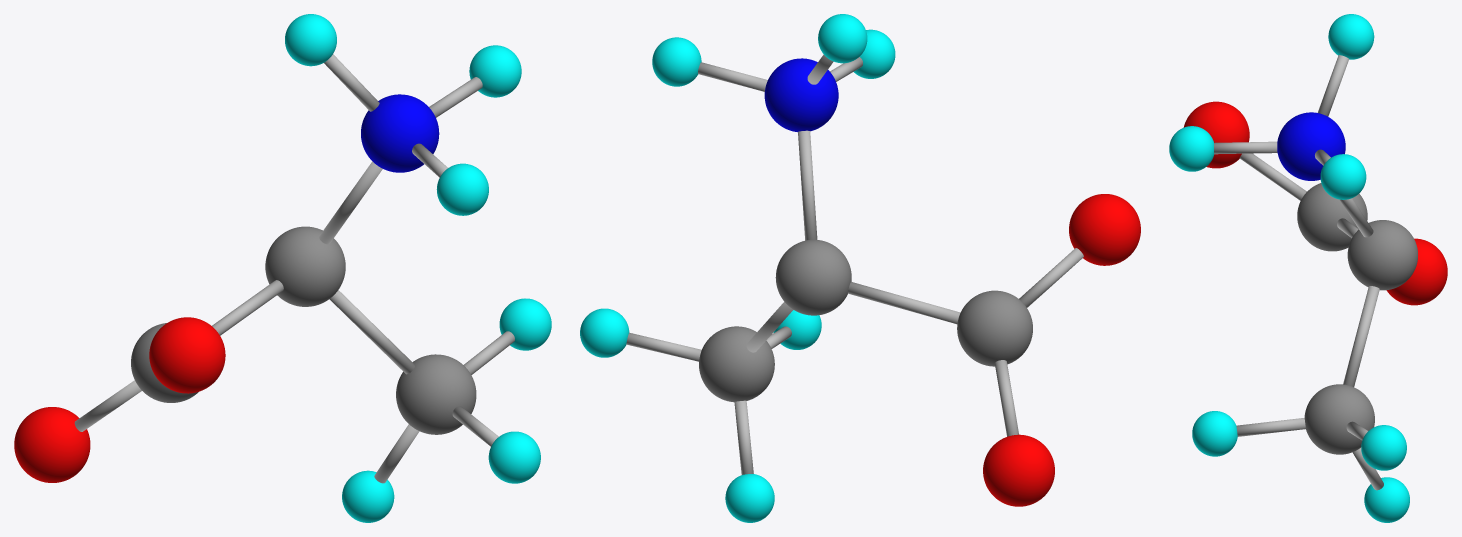
The model's file is L-alanene.glb.
3 renders of one model, left to right at view 1: azimuth 30°, elevation 25°; view 2: azimuth 150°, elevation 25°; view 3: azimuth 270°, elevation 25°, orthographic. The views are drawn at different scales.
Visible parts, largest first — view 1: CMAtom_0; view 2: CMAtom_0; view 3: CMAtom_0.
Part boxes in pixels (x1,y1,x2,y2): CMAtom_0: [14, 14, 551, 522]; CMAtom_0: [580, 14, 1140, 522]; CMAtom_0: [1169, 14, 1447, 522].
Size of the model in its own units: 0.4524 by 0.4546 by 0.2434.
